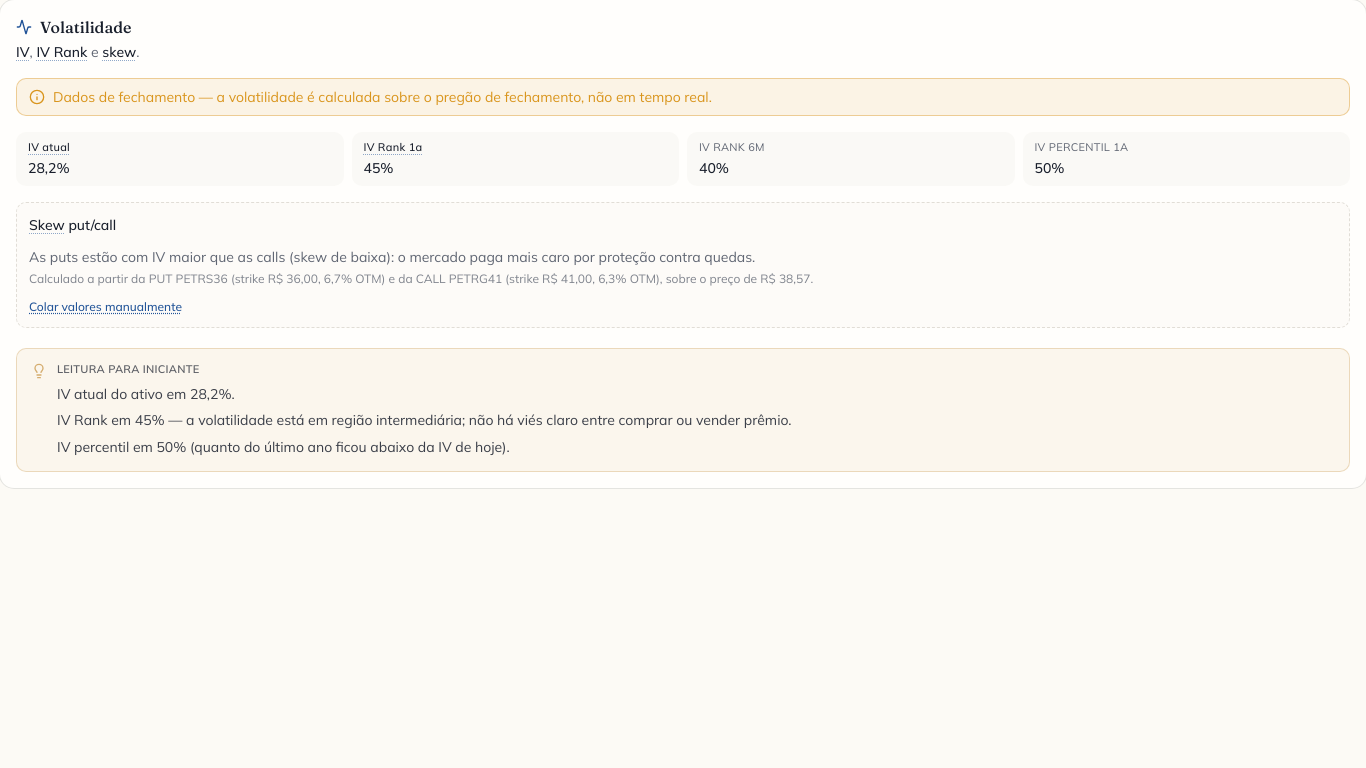
Scenario: <BlocoVolatilidade> — skew automático (V2) › manual SOBREPÕE o automático quando os dois valores são colados
The image size is (1366, 768).
Click the button "Colar valores manualmente" at (106, 307), box [29,299,182,315]
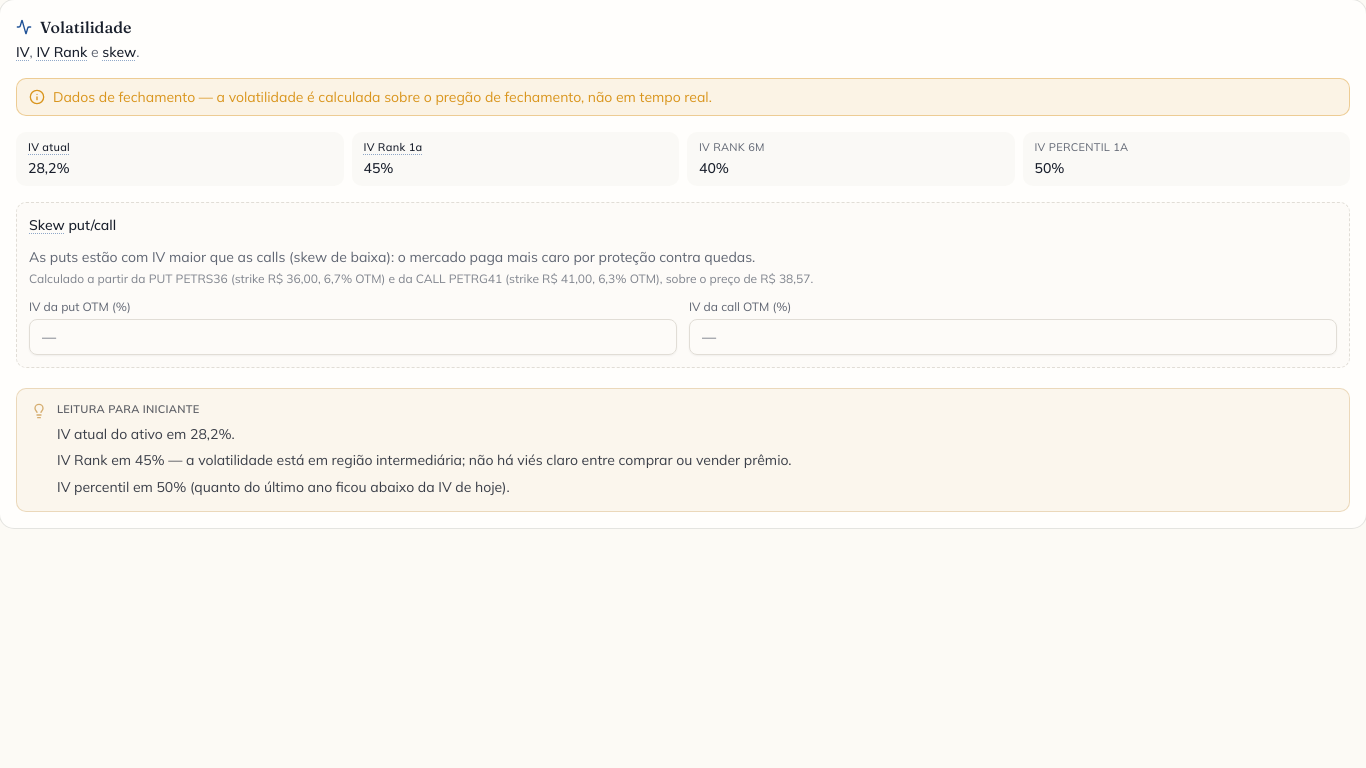
Type "20" into the field labelled "IV da put OTM (%)" at (353, 337), box [29,319,677,355]
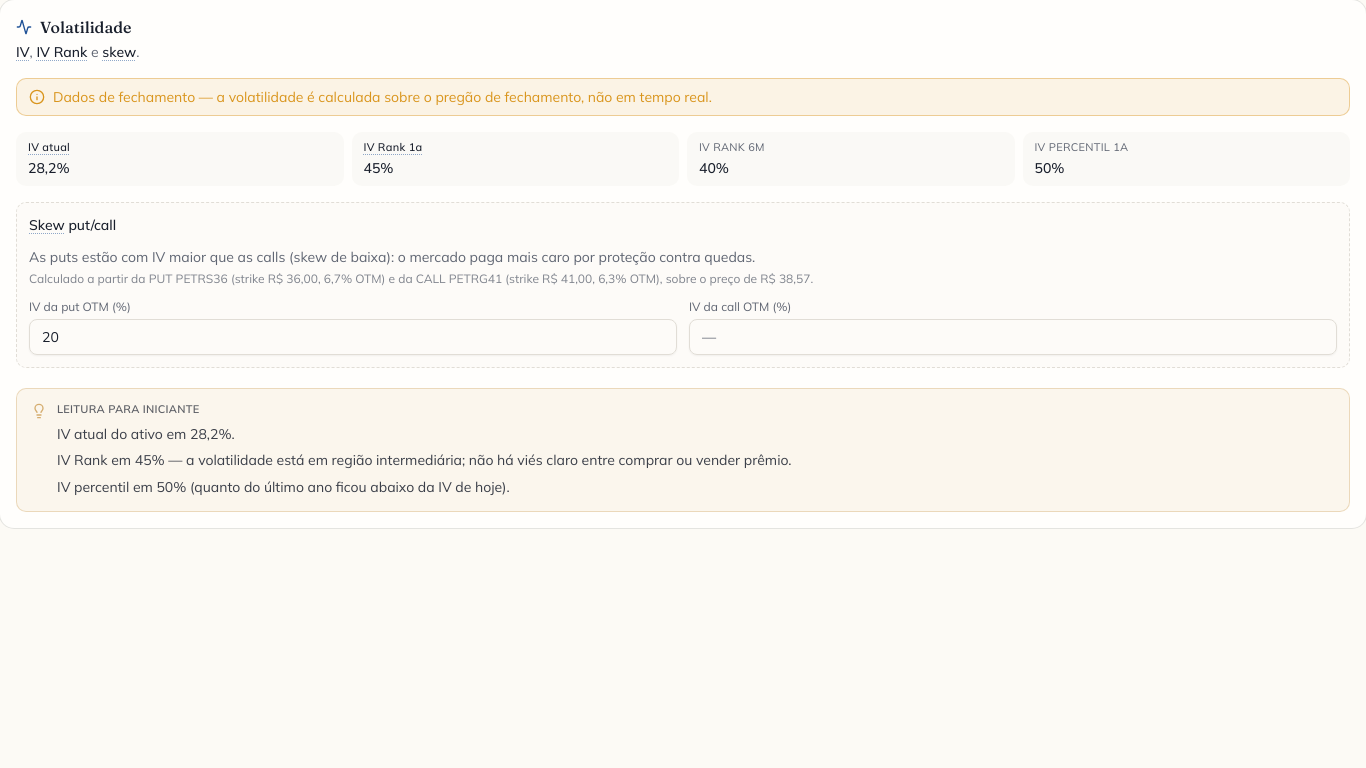
Type "40" into the field labelled "IV da call OTM (%)" at (1013, 337), box [689,319,1337,355]
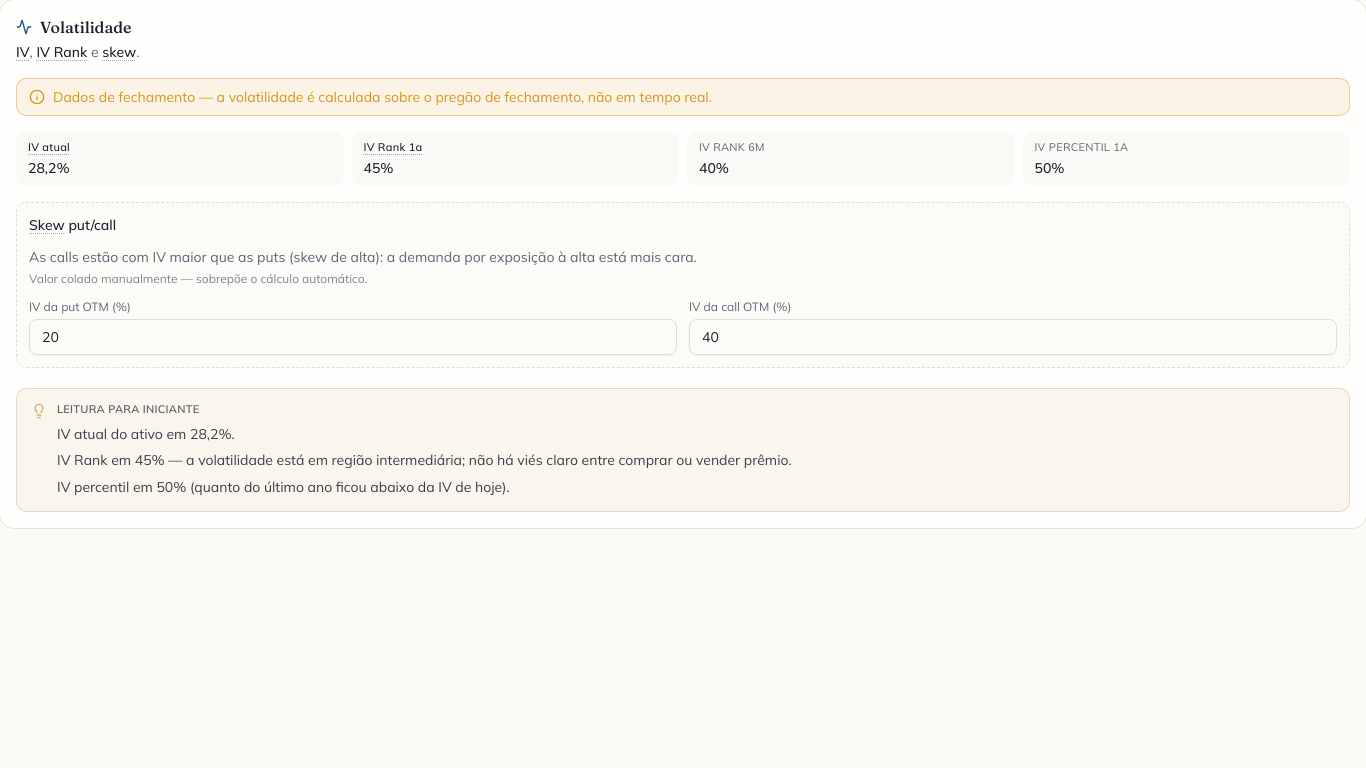
Expected: the text "Valor colado manualmente" is shown, [29,271,367,286]
Expected: the text "PETRS36" is gone
